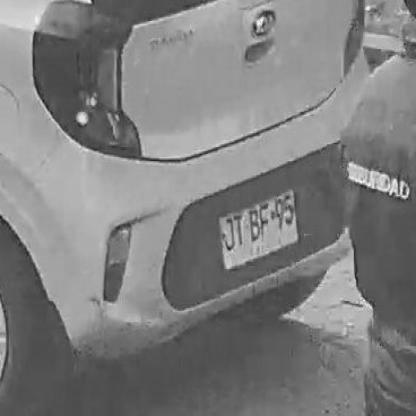Patente: (217, 187, 305, 271)
